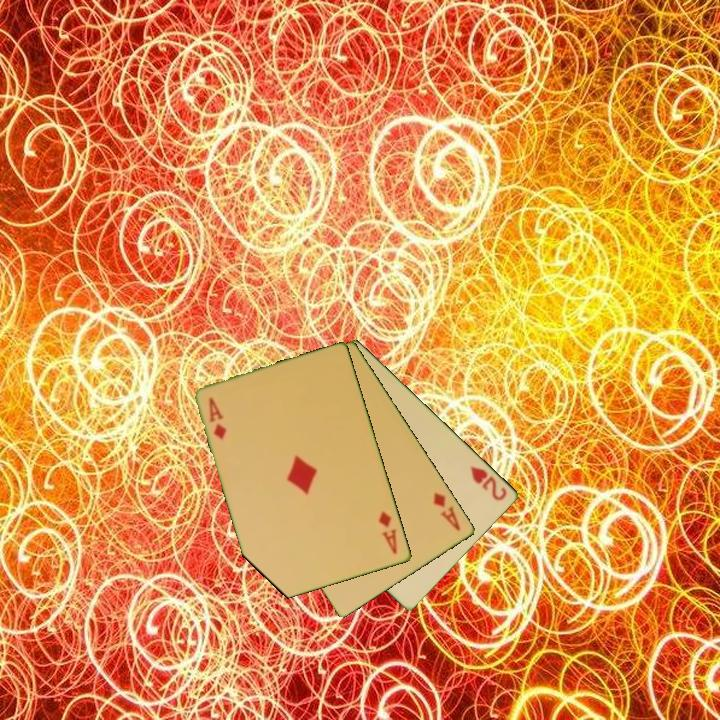2h: (467, 462, 510, 503)
Ad: (430, 489, 464, 534), (375, 508, 400, 558), (205, 394, 230, 443)
